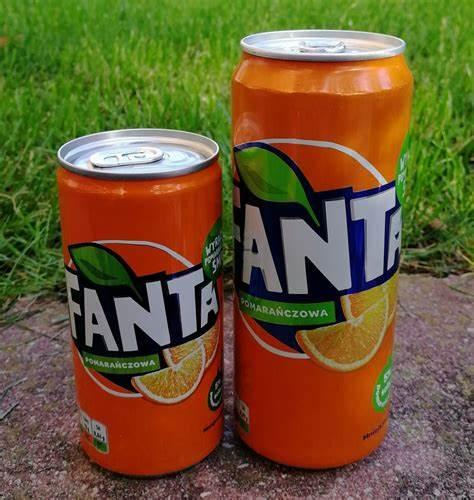metal: (233, 29, 414, 470), (57, 131, 223, 476)
